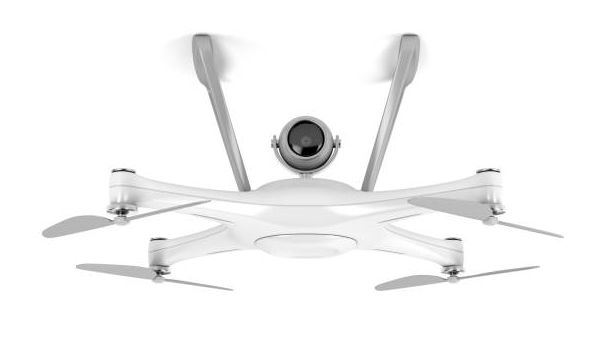Drone: (36, 24, 566, 294)
